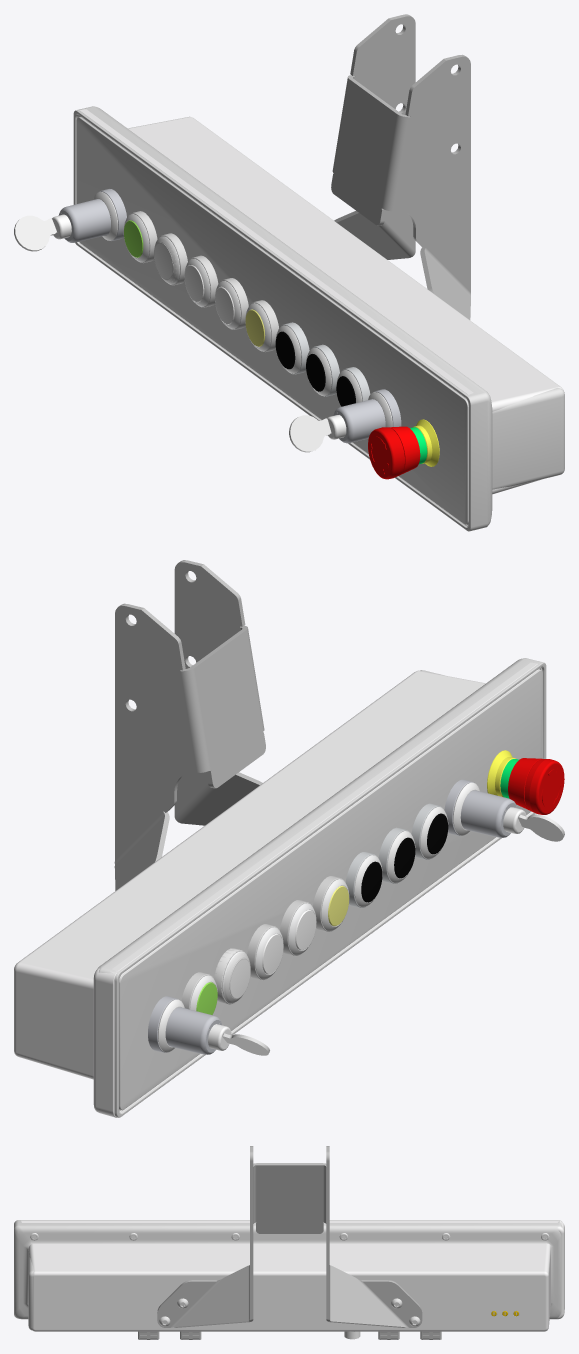
Rendered from OperatorPanel.fbx.
3 views of the same model, one above another, from view 1: azimuth 30°, elevation 25°; view 2: azimuth 150°, elevation 25°; view 3: azimuth 270°, elevation 25° (orthographic). The views are drawn at different scales.
Visible parts, largest first — view 1: Cube, C9900_M800, C9900_M800.006, C9900_M800.002, C9900_M800.004, C9900_M800.001, C9900_M800.005; view 2: C9900_M800, Cube, C9900_M800.006, C9900_M800.002, C9900_M800.004, C9900_M800.001, C9900_M800.005, Cylinder.001; view 3: C9900_M800, C9900_M800.006, Cube.
Part boxes in pixels (x1,y1,x2,y2): Cube: (73, 106, 564, 531); C9900_M800: (77, 108, 563, 526); C9900_M800.006: (331, 14, 470, 319); C9900_M800.002: (58, 189, 126, 242); C9900_M800.004: (368, 426, 420, 479); C9900_M800.001: (14, 214, 71, 251); C9900_M800.005: (410, 419, 439, 466); C9900_M800: (14, 662, 564, 1117); Cube: (98, 658, 546, 1117); C9900_M800.006: (114, 560, 265, 890); C9900_M800.002: (148, 996, 221, 1054); C9900_M800.004: (508, 758, 564, 814); C9900_M800.001: (208, 1024, 269, 1055); C9900_M800.005: (487, 750, 518, 798); Cylinder.001: (214, 948, 250, 1004); C9900_M800: (21, 1220, 564, 1339); C9900_M800.006: (157, 1146, 422, 1327); Cube: (14, 1220, 562, 1330).
Bounding box in the file's own units: 17.91 × 19.9 × 45.85.
